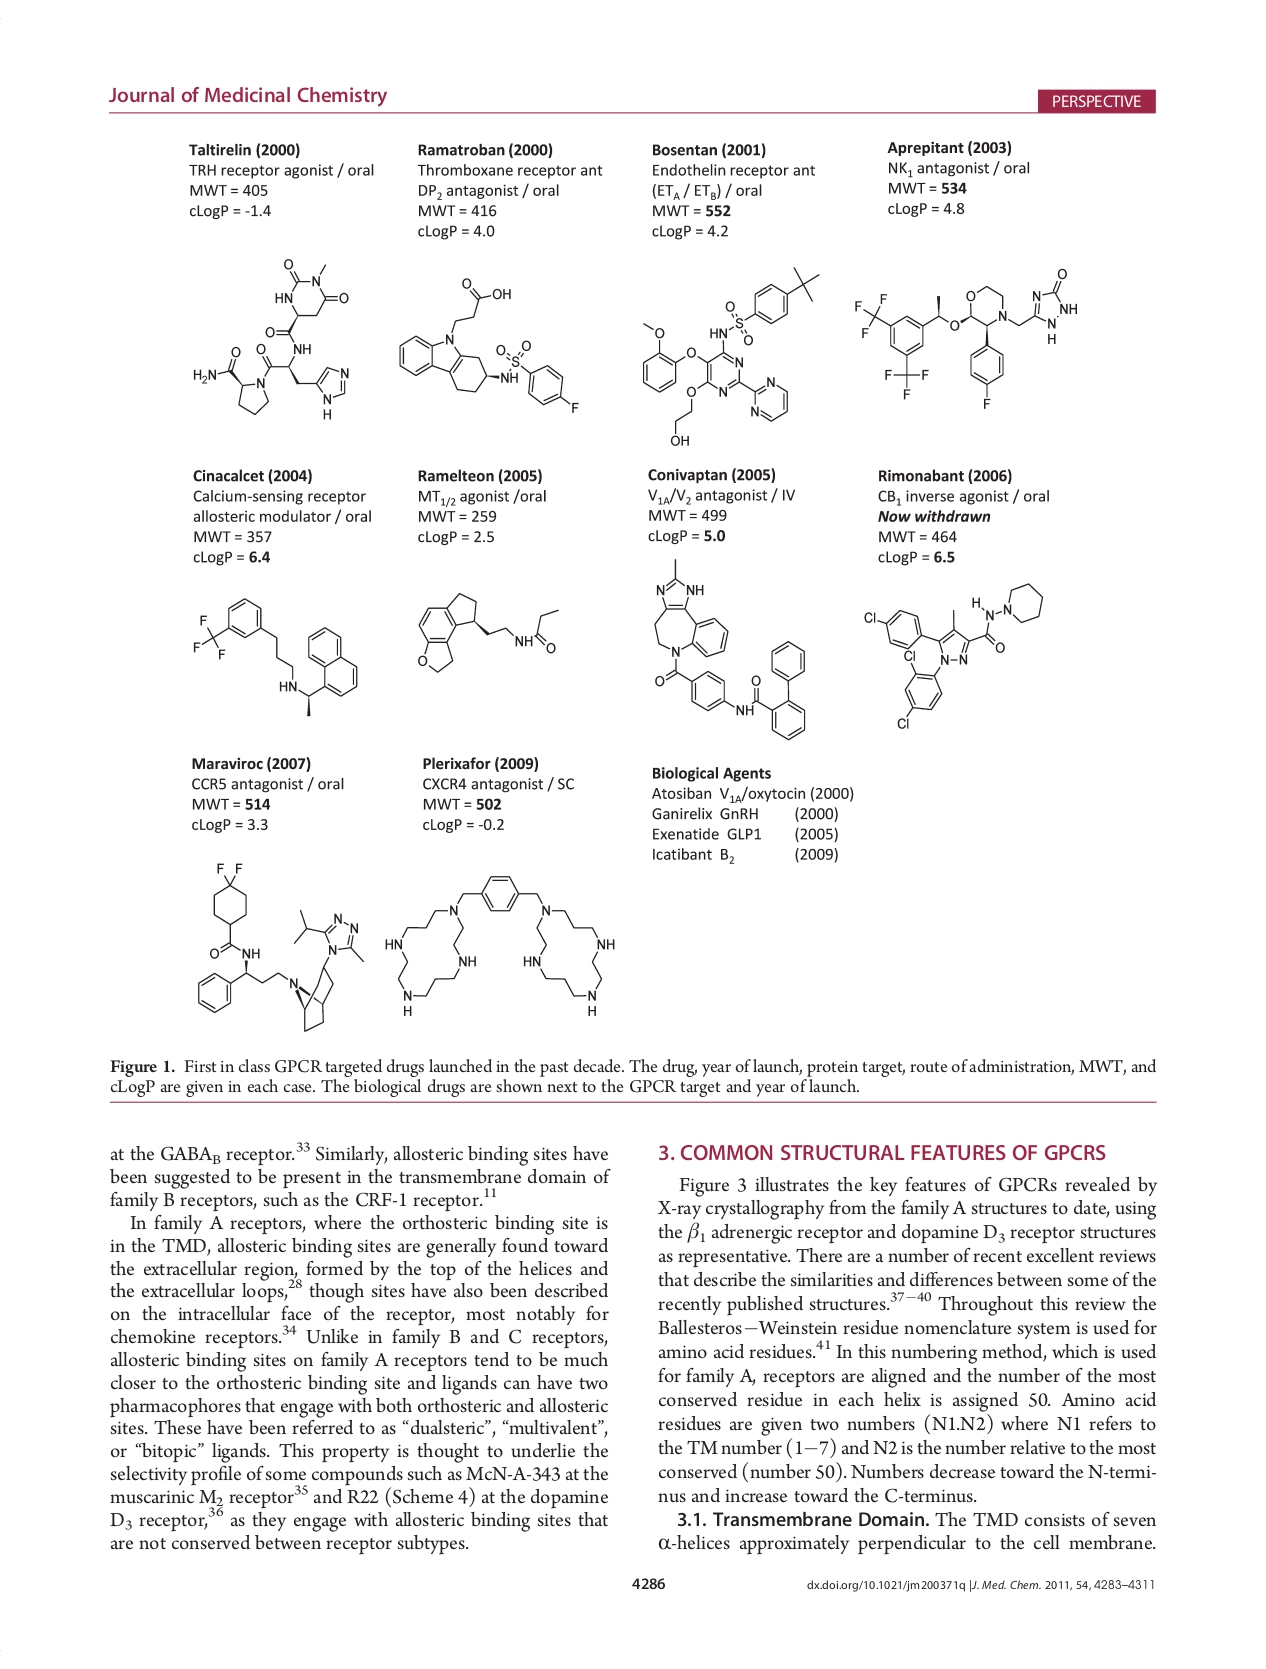exist_molecular: (636, 265, 822, 449), (382, 874, 618, 1017), (852, 265, 1078, 410), (645, 555, 809, 743), (195, 860, 364, 1032), (862, 580, 1045, 733), (189, 257, 351, 422), (396, 277, 582, 416), (189, 594, 359, 719), (412, 590, 563, 676)
